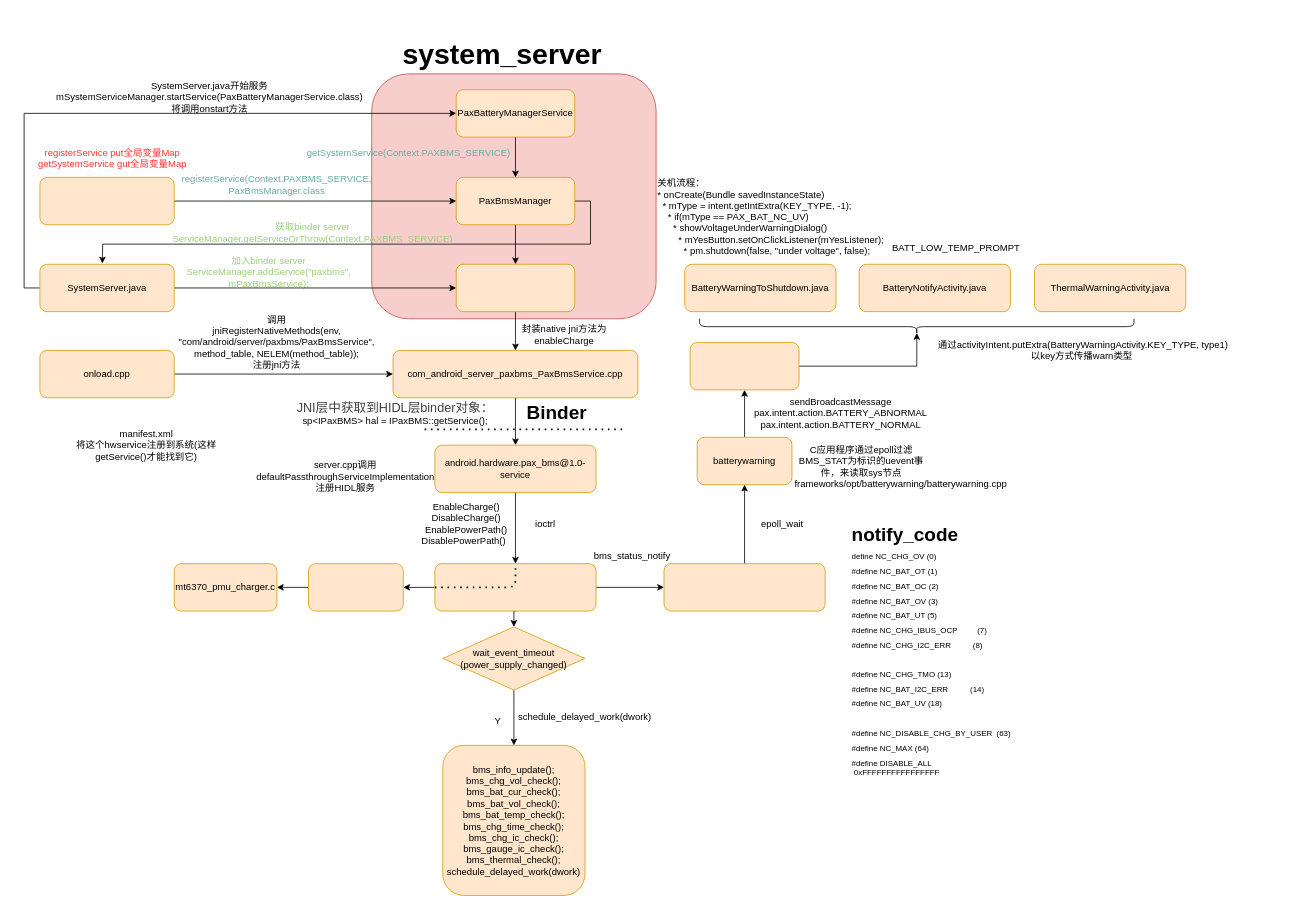
This 1300x909 diagram has some shape labels left out. The centre of each missing label's shape, as x and y in pixels:
"/sys/class/pax/bms/bms_notify" belongs at point 744,587.
"BatteryWarningReceiver" belongs at point 744,366.
"bms.c" belongs at point 515,587.
"mtk_charger.c" belongs at point 355,587.
"PaxBmsService" belongs at point 515,287.
"SystemServiceRegistry.java" belongs at point 106,201.
